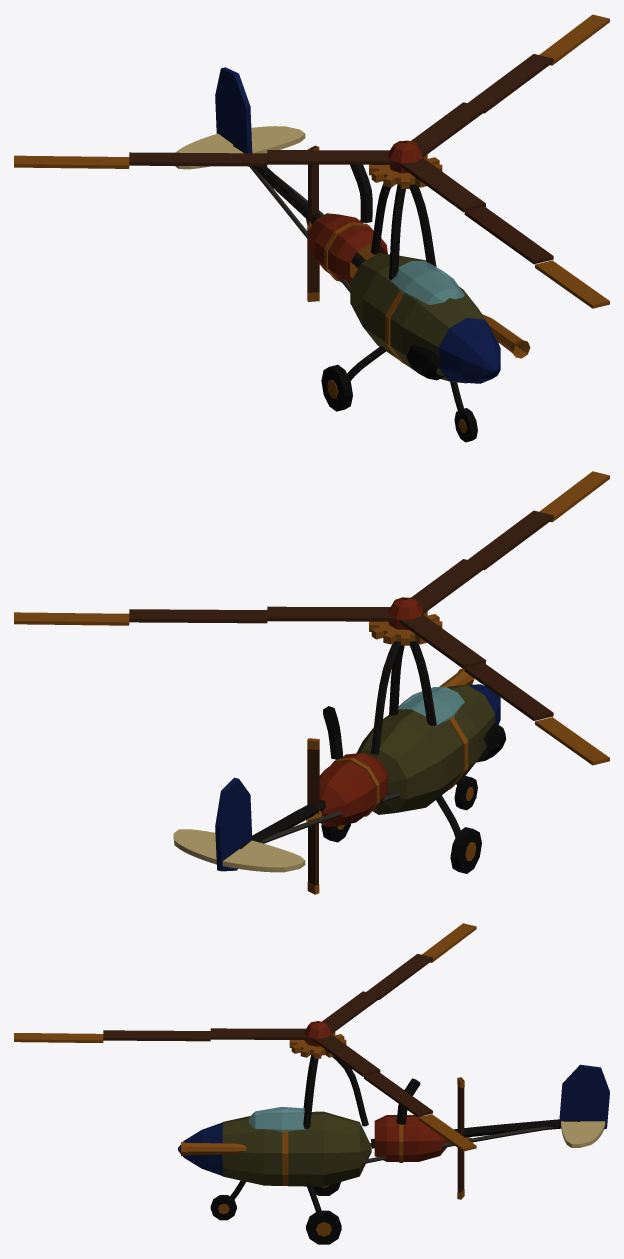
The model's file is Libelula_Curva.obj.
3 views of the same model, one above another, from view 1: azimuth 30°, elevation 25°; view 2: azimuth 150°, elevation 25°; view 3: azimuth 270°, elevation 25° (orthographic). The views are drawn at different scales.
Parts seen in each view (by area): view 1: Cuerpo, Rotor, Helice_1; view 2: Cuerpo, Rotor, Helice_1; view 3: Cuerpo, Rotor, Helice_1.
Boxes of the visible parts, x1,y1,x2,y2 form: Cuerpo: (175,67,530,442); Rotor: (14,14,609,308); Helice_1: (306,145,319,301); Cuerpo: (173,611,506,873); Rotor: (14,471,609,765); Helice_1: (306,738,322,894); Cuerpo: (178,1032,609,1244); Rotor: (14,923,476,1151); Helice_1: (457,1077,471,1199).
Size of the model in its own units: 8.96 by 3.64 by 10.
